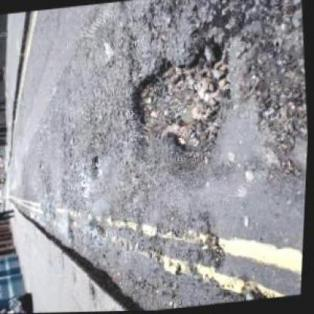Hueco: (119, 32, 241, 173), (90, 154, 102, 177)
